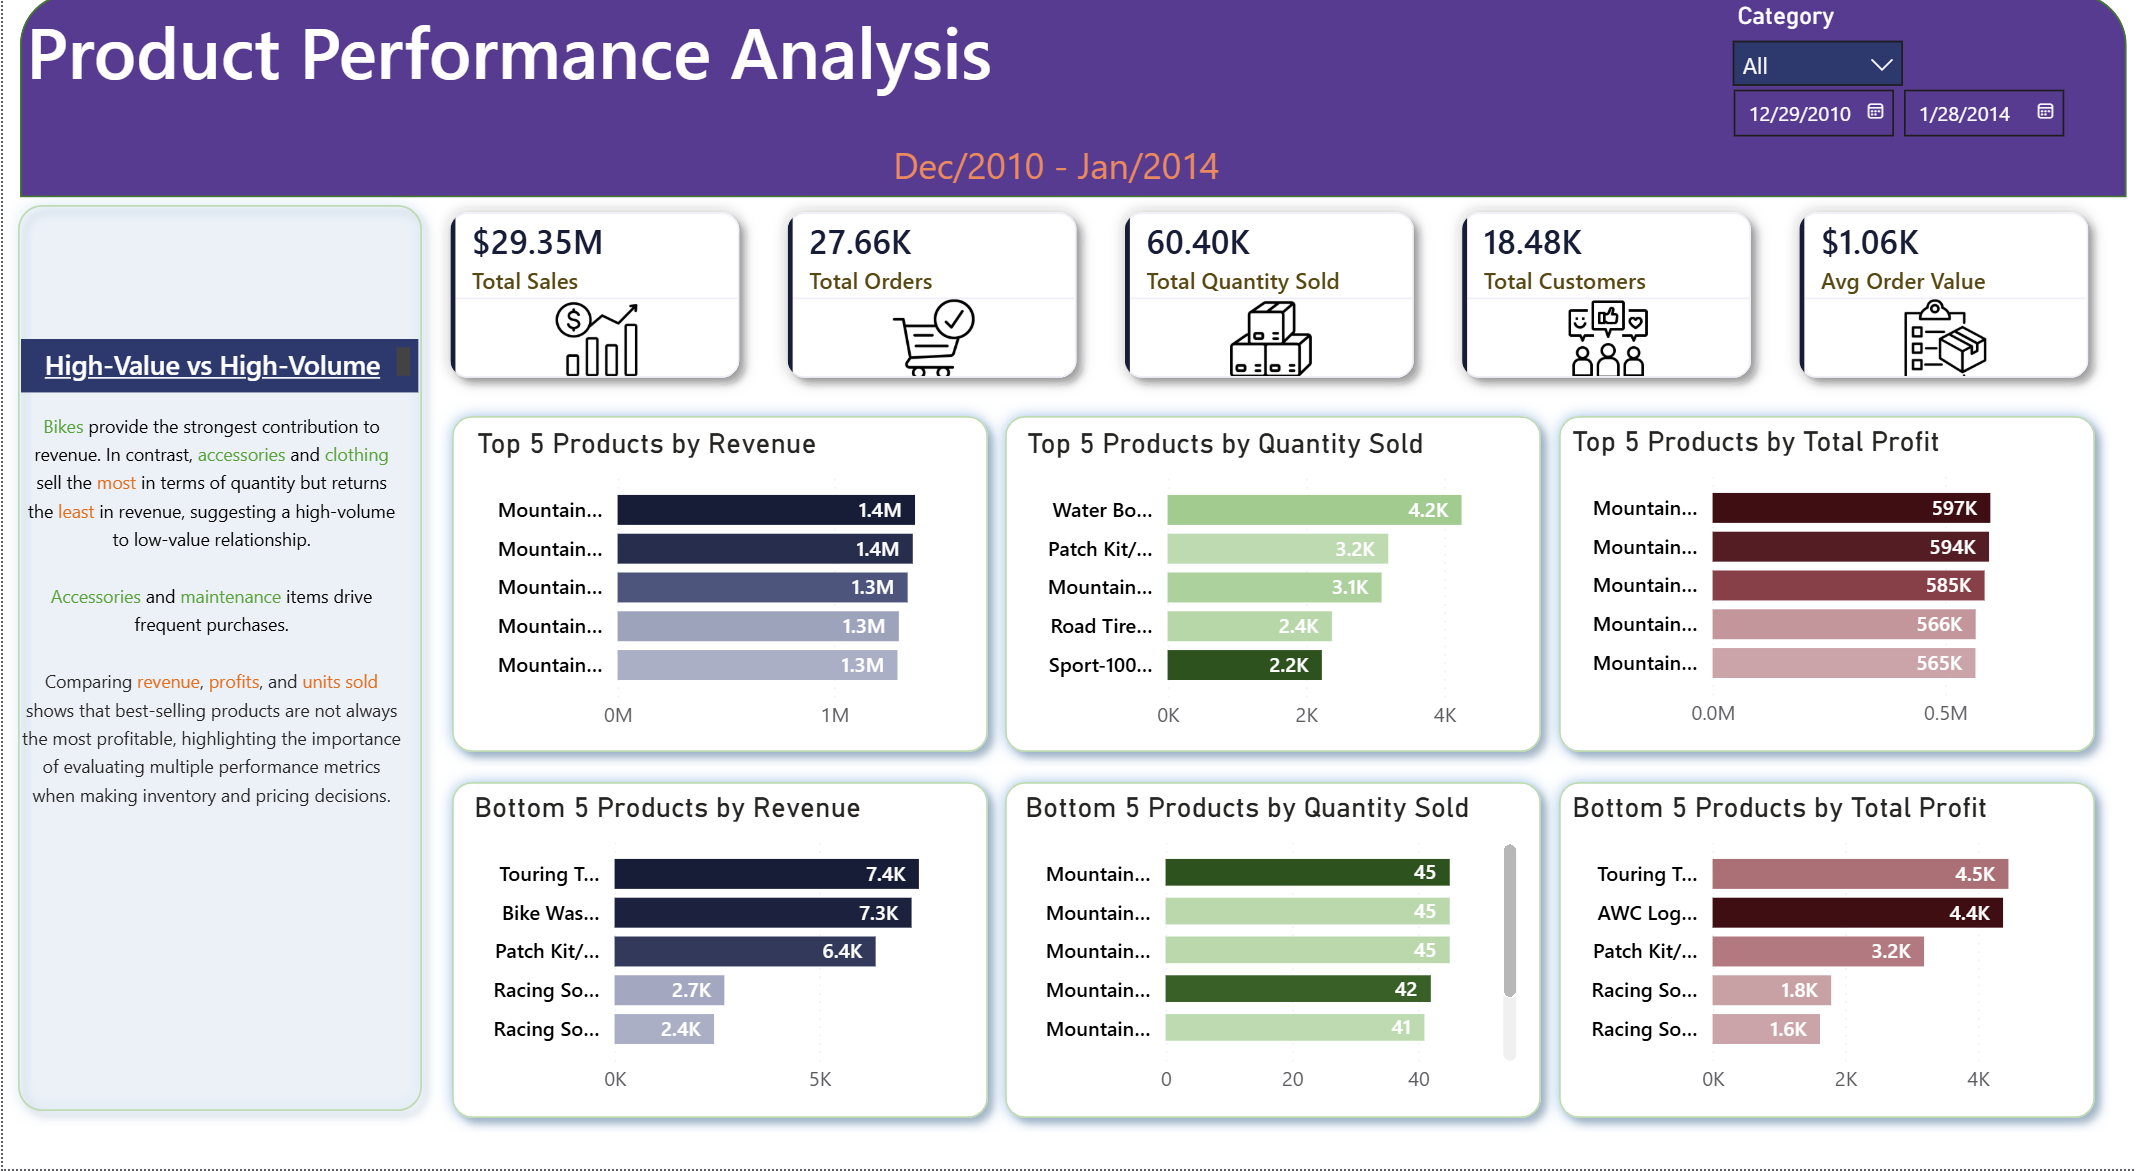

This screenshot's page, from the dashboard's own definition file:
{"tool":"powerbi","page":{"name":"Product Performance","canvas":[1280,720],"ordinal":1},"visuals":[{"type":"shape","box":[0,133.6,260,560.7],"z":0},{"type":"shape","box":[923.1,479.2,339,219.2],"z":1000},{"type":"shape","box":[591.2,479.2,339,219.2],"z":2000},{"type":"shape","box":[260,479.2,339,219.2],"z":3000},{"type":"shape","box":[260,260,339,219.2],"z":4000},{"type":"shape","box":[923.1,260,339,219.2],"z":5000},{"type":"shape","box":[10,16.4,1261.8,121.8],"z":6000},{"type":"cardVisual","fields":{"Data":["sales.Total Sales","sales.Total Orders","sales.Total Quantity Sold","sales.Total Customers","sales.Avg Order Value"]},"box":[239,118,1041,157],"z":7000},{"type":"textbox","box":[9.1,16.4,1261.8,144.5],"z":8000},{"type":"textbox","box":[0,99.1,1261.8,61.8],"z":9000},{"type":"shape","box":[591.2,260,339,219.2],"z":10000},{"type":"textbox","box":[6,260,237.8,349.8],"z":12000},{"type":"textbox","box":[10.8,222.8,237.8,32.3],"z":13000},{"type":"slicer","title":"Category","fields":{"Values":["products.category"]},"box":[1026.1,16.2,122.2,56.3],"z":15000},{"type":"slicer","title":"Category","fields":{"Values":["sales.order_date"]},"box":[1023.7,63.5,219.8,70.1],"z":16000},{"type":"barChart","title":"Top 5 Products by Revenue","fields":{"Y":["sales.Total Sales"],"Category":["products.product_name"]},"box":[279.1,274.9,304.3,191.1],"z":17000},{"type":"barChart","title":"Bottom 5 Products by Revenue","fields":{"Y":["sales.Total Sales"],"Category":["products.product_name"]},"box":[277.3,493,304.3,191.1],"z":18000},{"type":"barChart","title":"Top 5 Products by Quantity Sold","fields":{"Category":["products.product_name"],"Y":["sales.Total Quantity Sold"]},"box":[608.6,274.9,304.3,191.1],"z":19000},{"type":"barChart","title":"Bottom 5 Products by Quantity Sold","fields":{"Y":["sales.Total Quantity Sold"],"Category":["products.product_name"]},"box":[607.4,493,304.3,191.1],"z":20000},{"type":"barChart","title":"Top 5 Products by Total Profit","fields":{"Category":["products.product_name"],"Y":["sales.Total Profit"]},"box":[935,273.7,304.3,191.1],"z":21000},{"type":"barChart","title":"Bottom 5 Products by Total Profit","fields":{"Category":["products.product_name"],"Y":["sales.Total Profit"]},"box":[935,493,304.3,191.1],"z":22000}]}

Visuals, with their boxes in screenshot pixels (x1, y1, x2, y2), scaled from the page's 1280x720 canvas onto the 2136x1171 screenshot:
shape: rect(0, 217, 434, 1129)
shape: rect(1540, 779, 2106, 1136)
shape: rect(987, 779, 1552, 1136)
shape: rect(434, 779, 1000, 1136)
shape: rect(434, 423, 1000, 779)
shape: rect(1540, 423, 2106, 779)
shape: rect(17, 27, 2122, 225)
cardVisual - sales.Total Sales x sales.Total Orders: rect(399, 192, 2135, 447)
textbox: rect(15, 27, 2121, 262)
textbox: rect(0, 161, 2106, 262)
shape: rect(987, 423, 1552, 779)
textbox: rect(10, 423, 407, 992)
textbox: rect(18, 362, 415, 415)
"Category" slicer: rect(1712, 26, 1916, 118)
"Category" slicer: rect(1708, 103, 2075, 217)
"Top 5 Products by Revenue" barChart: rect(466, 447, 974, 758)
"Bottom 5 Products by Revenue" barChart: rect(463, 802, 971, 1113)
"Top 5 Products by Quantity Sold" barChart: rect(1016, 447, 1523, 758)
"Bottom 5 Products by Quantity Sold" barChart: rect(1014, 802, 1521, 1113)
"Top 5 Products by Total Profit" barChart: rect(1560, 445, 2068, 756)
"Bottom 5 Products by Total Profit" barChart: rect(1560, 802, 2068, 1113)
